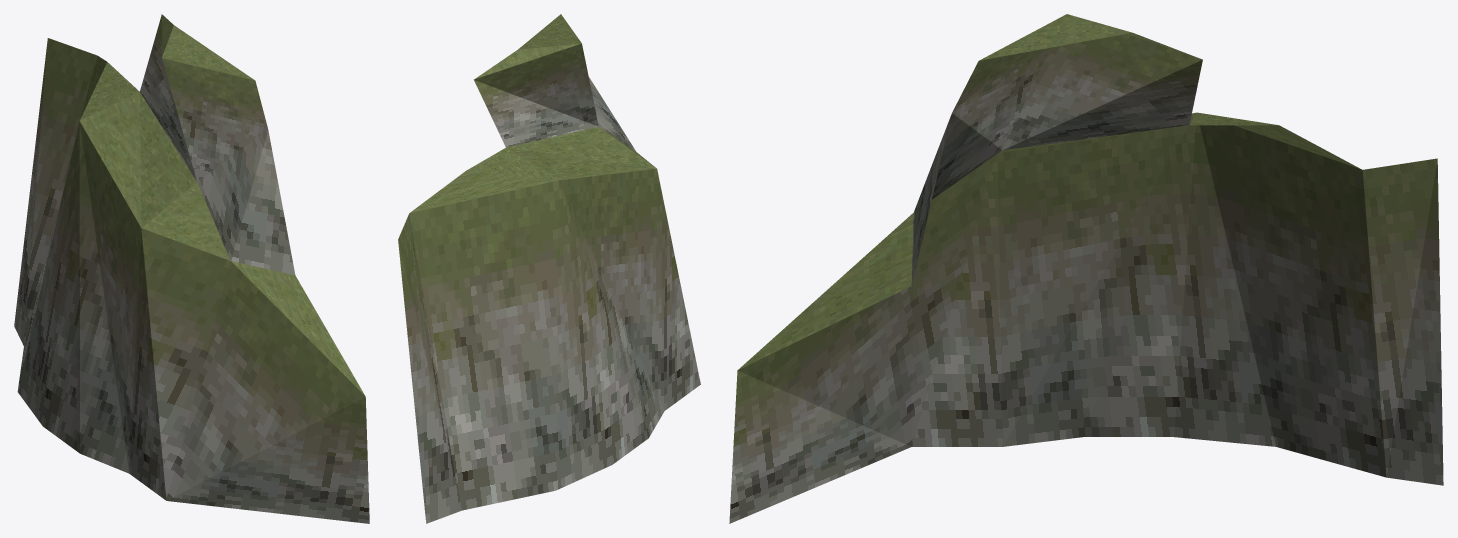
Rendered from nw_lodbit_31.obj.
3 views of the same model, side by side, from view 1: azimuth 30°, elevation 25°; view 2: azimuth 150°, elevation 25°; view 3: azimuth 270°, elevation 25° (orthographic). The views are drawn at different scales.
Parts seen in each view (by area): view 1: nw_lodbit_31; view 2: nw_lodbit_31; view 3: nw_lodbit_31.
Boxes of the visible parts, x1,y1,x2,y2 form: nw_lodbit_31: (14, 14, 369, 523); nw_lodbit_31: (398, 14, 700, 523); nw_lodbit_31: (729, 14, 1443, 523).
Size of the model in its own units: 39.8 by 101 by 138.
Materials: 2 (2 with a texture image).
